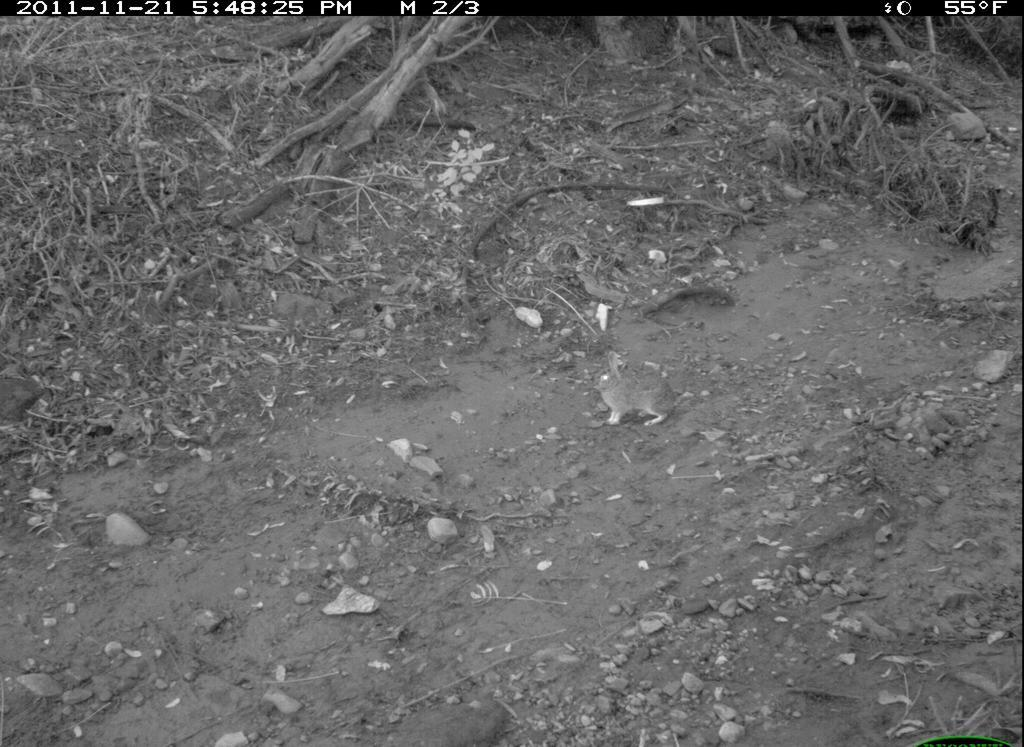rabbit: (591, 351, 685, 433)
